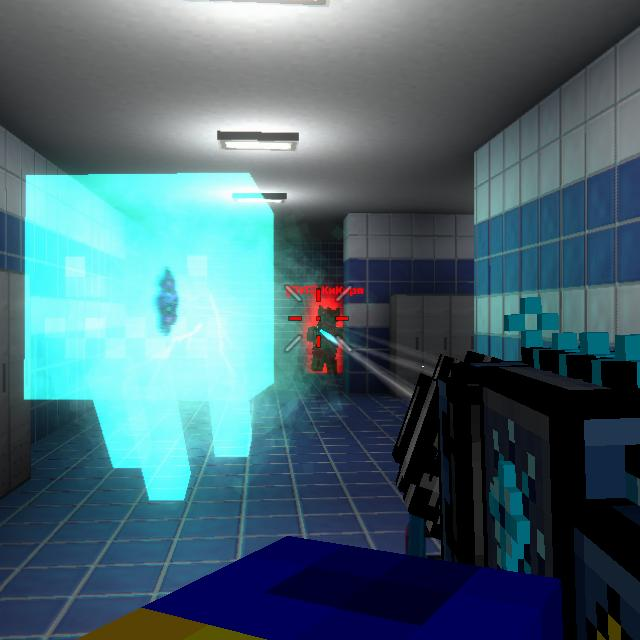Enemy: (308, 306, 343, 372)
